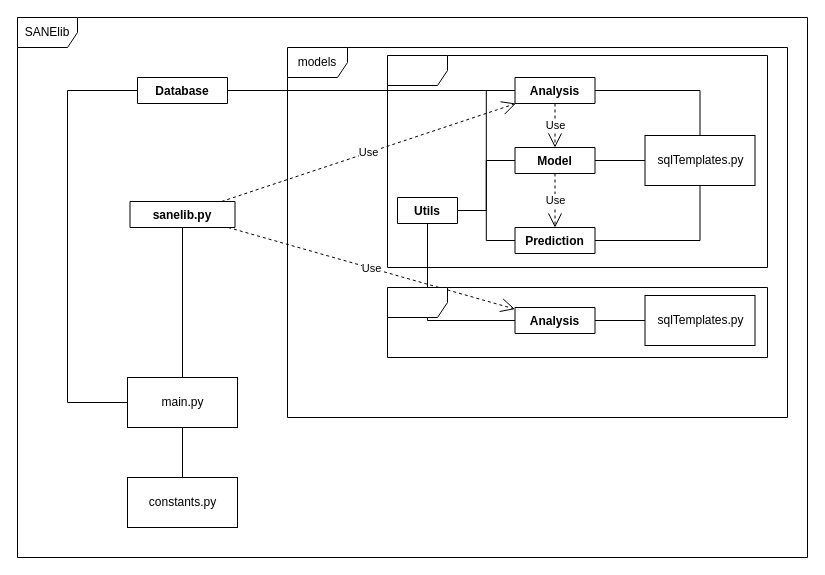
Image size: 825x575. Some labels were removed from this diagram. The centre of each missing label's shape, as x and y in pixels:
"dtc" belongs at point (577, 322).
"mdh" belongs at point (577, 161).
